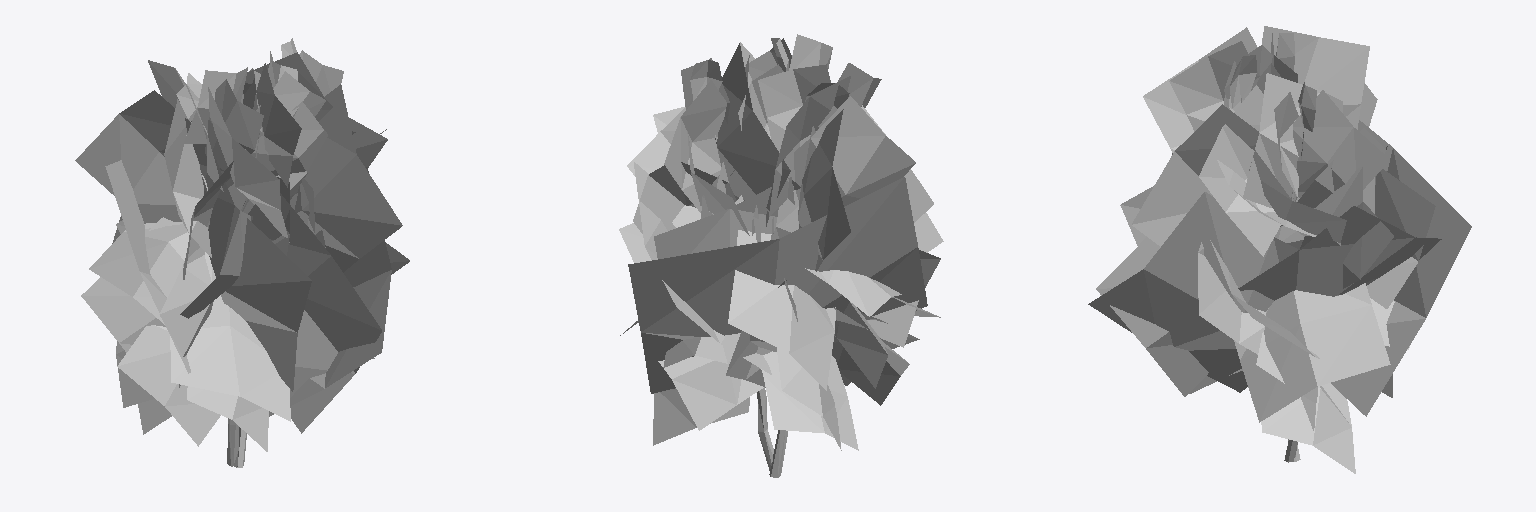
Rendered from tree2.obj.
3 views of the same model, side by side, from view 1: azimuth 30°, elevation 25°; view 2: azimuth 150°, elevation 25°; view 3: azimuth 270°, elevation 25° (orthographic).
Visible parts, largest first — view 1: Tree-02-2; view 2: Tree-02-2; view 3: Tree-02-2.
Boxes of the visible parts, x1=… form: Tree-02-2: x1=75, y1=38, x2=409, y2=467; Tree-02-2: x1=619, y1=34, x2=943, y2=477; Tree-02-2: x1=1088, y1=26, x2=1471, y2=473.
Bounding box in the file's own units: 4.09 × 5.69 × 4.71.